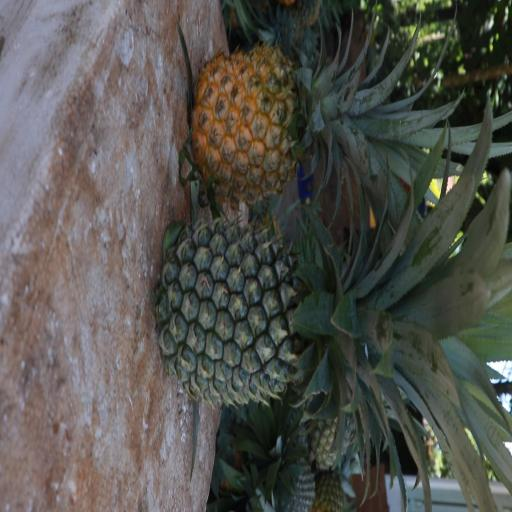Pineapple - v8 v1: (192, 49, 450, 204)
